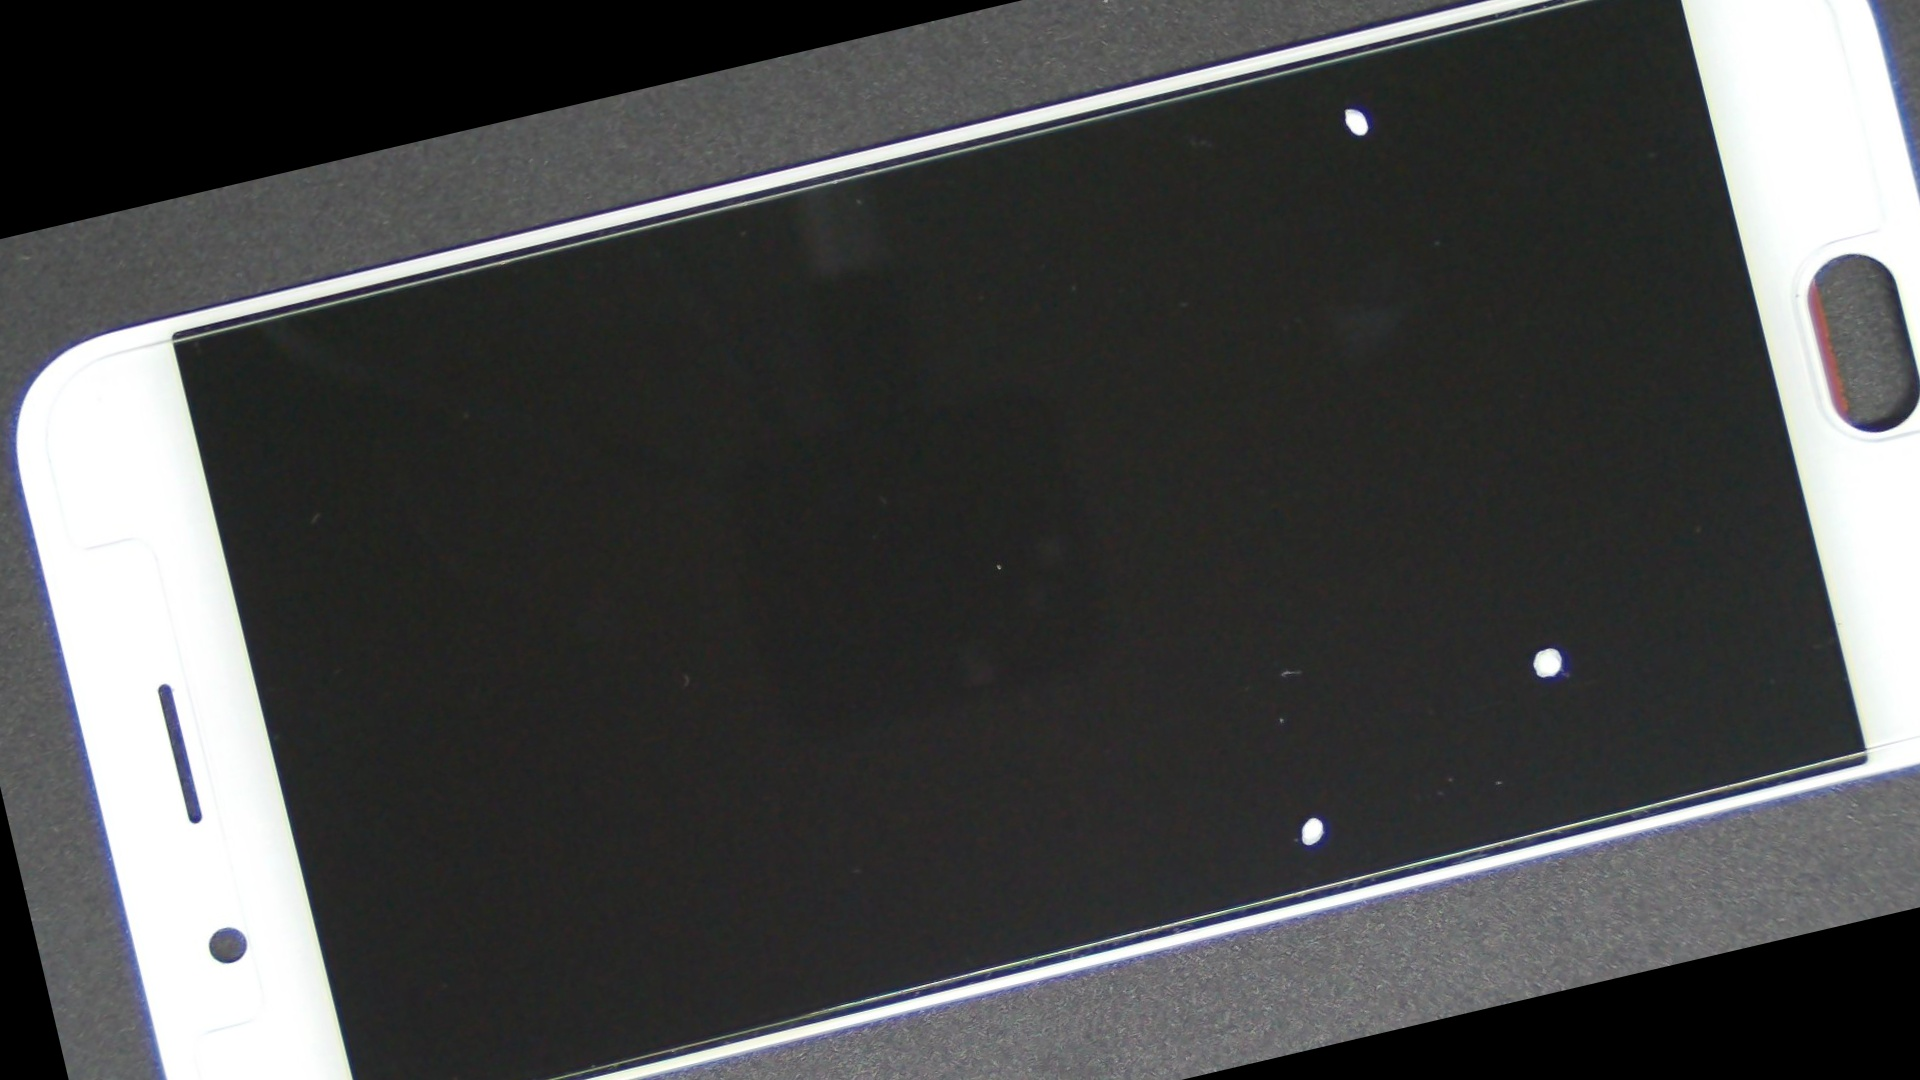oil: (712, 162, 1920, 1080), (596, 252, 1920, 1080), (611, 0, 1920, 363)
